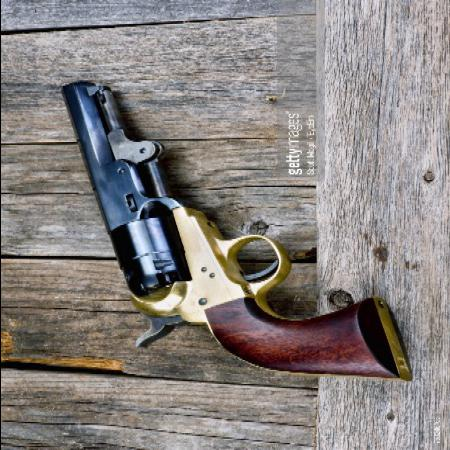Pistol: (60, 81, 404, 383)
